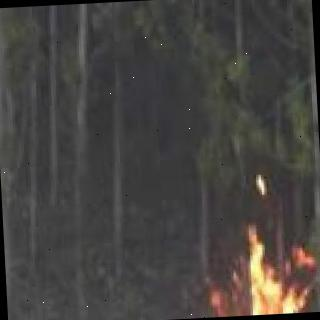fire: (184, 226, 318, 319)
